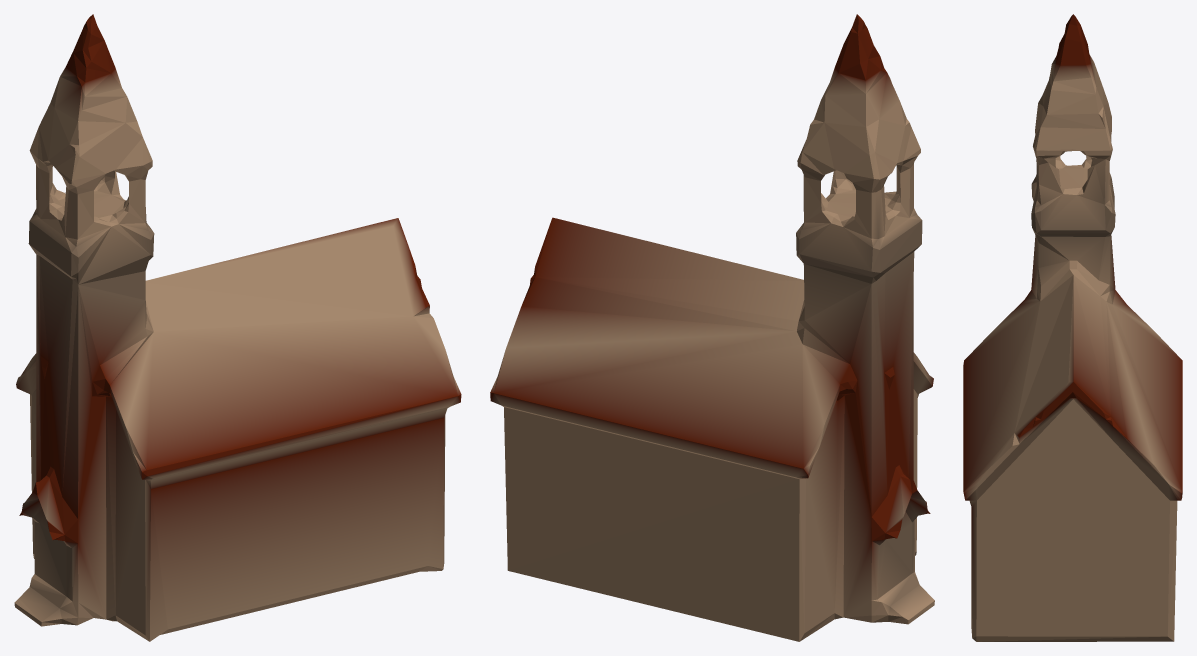
File: Churches.glb
3 views of the same model, side by side, from view 1: azimuth 30°, elevation 25°; view 2: azimuth 150°, elevation 25°; view 3: azimuth 270°, elevation 25° (orthographic). The views are drawn at different scales.
Parts seen in each view (by area): view 1: Root; view 2: Root; view 3: Root.
Part boxes in pixels (bbox=[...]): Root: bbox=[14, 14, 461, 641]; Root: bbox=[490, 14, 934, 641]; Root: bbox=[963, 14, 1182, 641].
Size of the model in its own units: 9.86 by 15.01 by 5.87.
